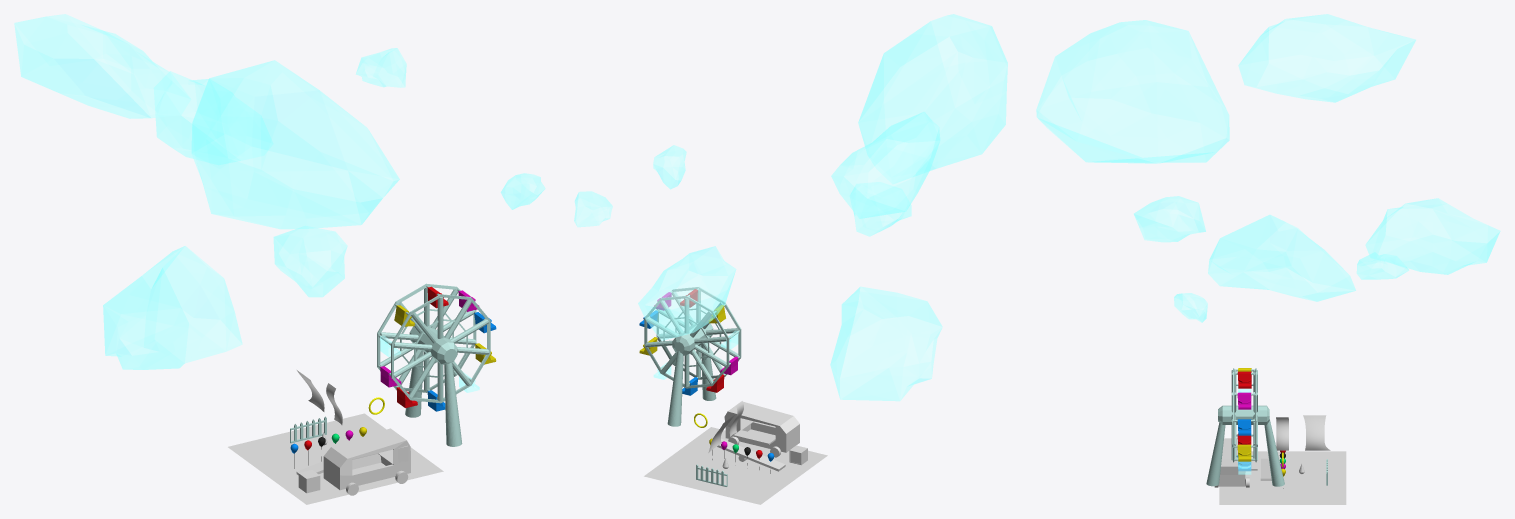
The model's file is Circus Props.fbx.
3 views of the same model, side by side, from view 1: azimuth 30°, elevation 25°; view 2: azimuth 150°, elevation 25°; view 3: azimuth 270°, elevation 25° (orthographic). The views are drawn at different scales.
Parts seen in each view (by area): view 1: cloud 006, cloud 002, cloud 005, Big, cloud 003, Plane, cloud 004, truck, cloud 001, cloud; view 2: cloud 006, cloud 002, cloud 005, Plane, Big, cloud 003, truck, cloud 004, cloud 001, cloud, Cube.001; view 3: cloud 006, cloud 005, cloud 002, cloud 003, Plane, Big, cloud 004, cloud 001, truck, cloud, Ad Banner.
Boxes of the visible parts, x1,y1,x2,y2 form: cloud 006: [191, 60, 399, 229]; cloud 002: [103, 246, 242, 369]; cloud 005: [14, 14, 190, 118]; Big: [377, 283, 490, 446]; cloud 003: [154, 71, 272, 164]; Plane: [228, 413, 443, 504]; cloud 004: [273, 226, 347, 297]; truck: [323, 428, 410, 490]; cloud 001: [356, 48, 406, 87]; cloud: [501, 173, 545, 209]; cloud 006: [858, 14, 1007, 183]; cloud 002: [830, 286, 942, 401]; cloud 005: [831, 112, 940, 218]; Plane: [644, 427, 827, 504]; Big: [644, 287, 741, 426]; cloud 003: [638, 246, 736, 340]; truck: [724, 401, 799, 452]; cloud 004: [850, 182, 911, 236]; cloud 001: [574, 191, 612, 227]; cloud: [653, 145, 686, 189]; Cube.001: [717, 438, 785, 471]; cloud 006: [1036, 20, 1229, 163]; cloud 005: [1238, 14, 1415, 102]; cloud 002: [1208, 215, 1355, 301]; cloud 003: [1365, 198, 1500, 274]; Plane: [1219, 451, 1346, 504]; Big: [1206, 368, 1284, 486]; cloud 004: [1134, 196, 1205, 242]; cloud 001: [1356, 252, 1408, 279]; truck: [1219, 438, 1257, 486]; cloud: [1174, 293, 1207, 322]; Ad Banner: [1303, 415, 1330, 450].
Size of the model in its own units: 5955 by 6915 by 7331.
